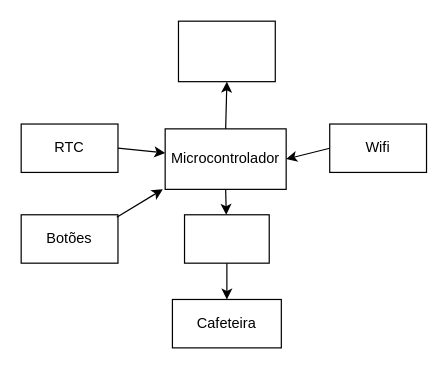
This 448x369 diagram has some shape labels left out. The shapes that lost their labels are listed below. From the top down, each one's centre as x and y in pixels, then its label:
At [226,51]: "Display 7 segmentos".
At [226,238]: "Relé".
